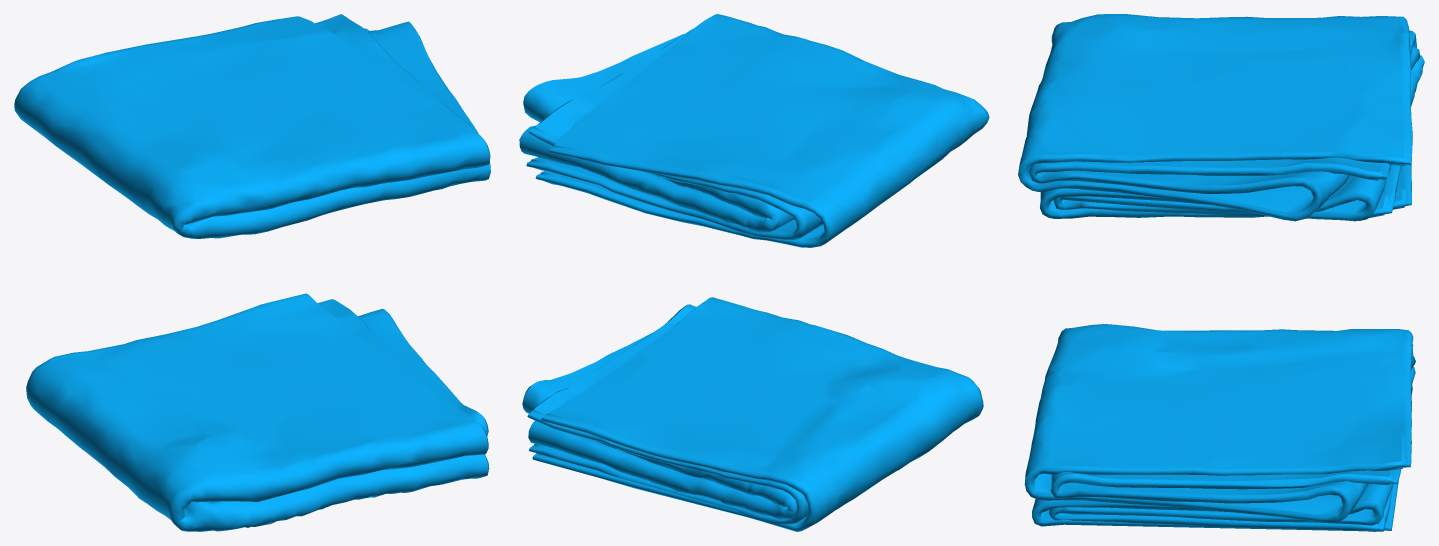
File: Towels_Folded_LOD.FBX
The picture shows the model from 3 angles, left to right: view 1: azimuth 30°, elevation 25°; view 2: azimuth 150°, elevation 25°; view 3: azimuth 270°, elevation 25°; orthographic projection. The views are drawn at different scales.
Parts seen in each view (by area): view 1: Towel_Folded1_LOD0, Towel_Folded2_LOD0; view 2: Towel_Folded2_LOD0, Towel_Folded1_LOD0; view 3: Towel_Folded2_LOD0, Towel_Folded1_LOD0.
Boxes of the visible parts, x1=… form: Towel_Folded1_LOD0: x1=26, y1=293, x2=489, y2=531; Towel_Folded2_LOD0: x1=14, y1=14, x2=490, y2=238; Towel_Folded2_LOD0: x1=519, y1=14, x2=989, y2=247; Towel_Folded1_LOD0: x1=522, y1=297, x2=983, y2=531; Towel_Folded2_LOD0: x1=1018, y1=14, x2=1424, y2=221; Towel_Folded1_LOD0: x1=1024, y1=324, x2=1415, y2=531.
Size of what is drawn, in the model's own units: 0.3911 by 0.3666 by 0.3606.
